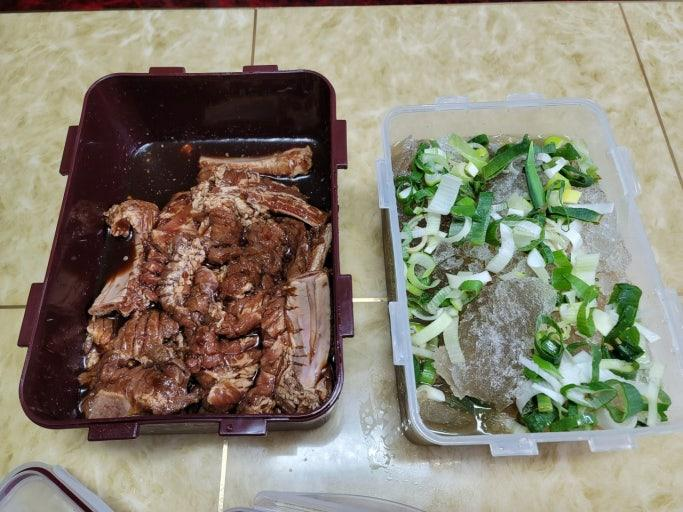Lunch Box: (19, 67, 353, 439), (376, 95, 682, 455)
